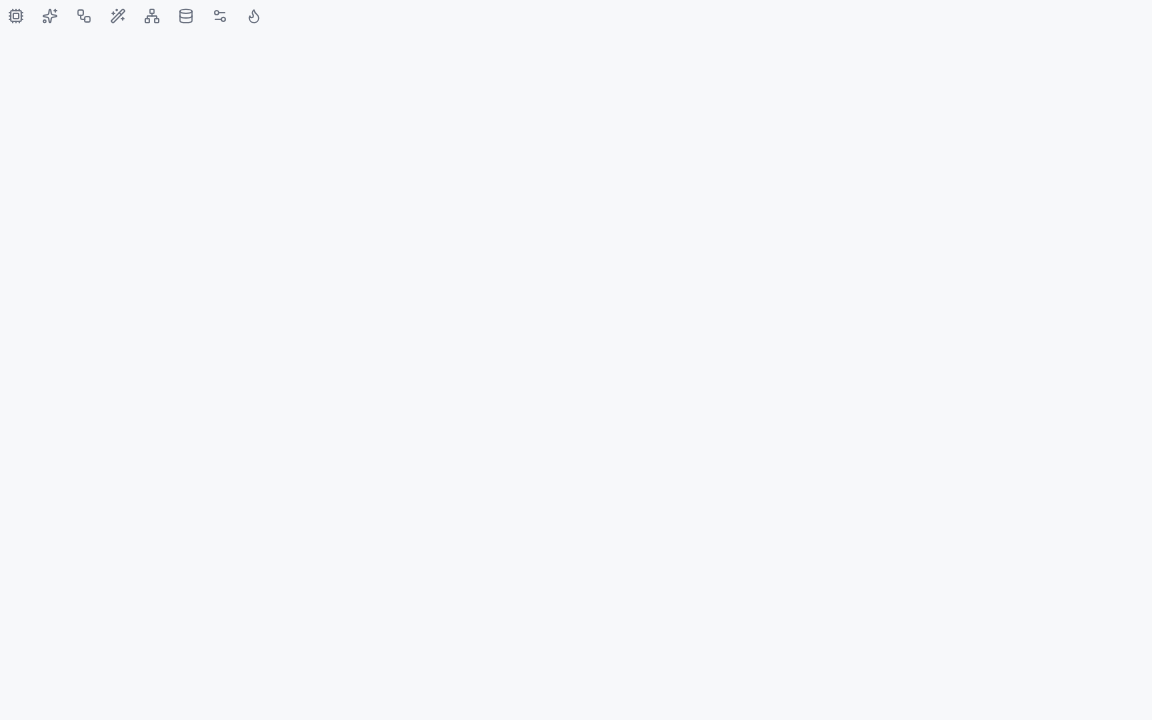
Test: ConfigButtonArea › 自由模式按钮桌面端可见，且点击打开弹窗（不依赖会话）
Step 1. Click the button named "自由模式" → (254,16), box [238, 0, 270, 32]
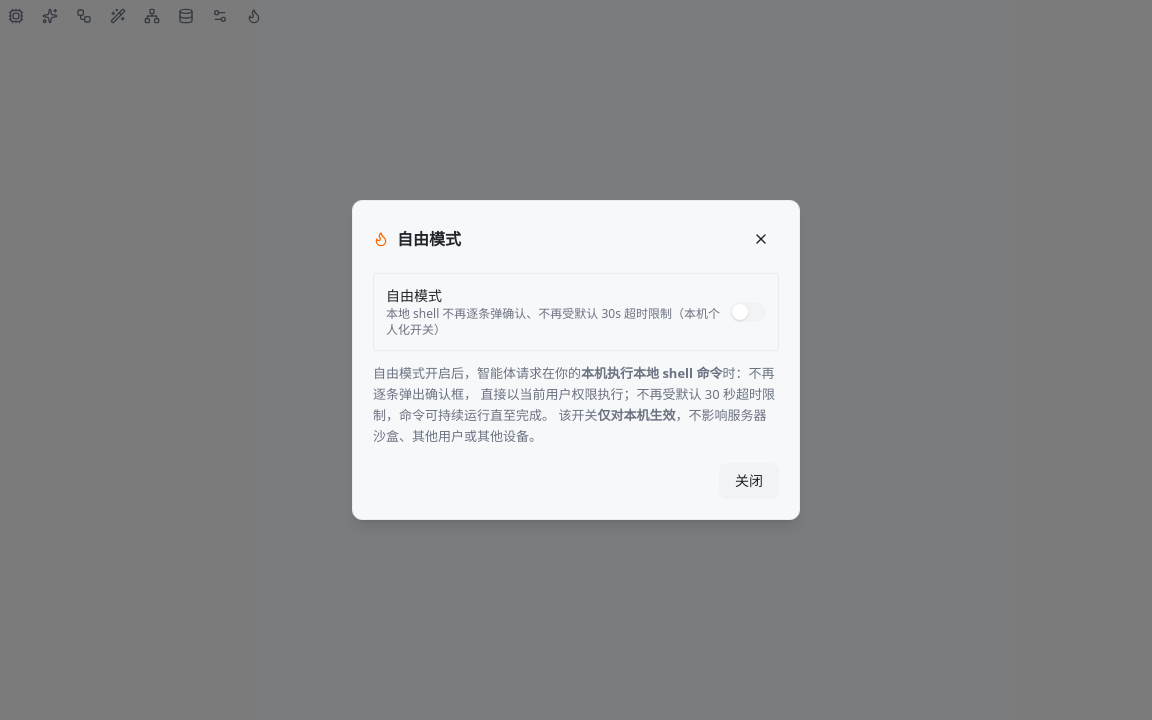
Now the dialog is shown
